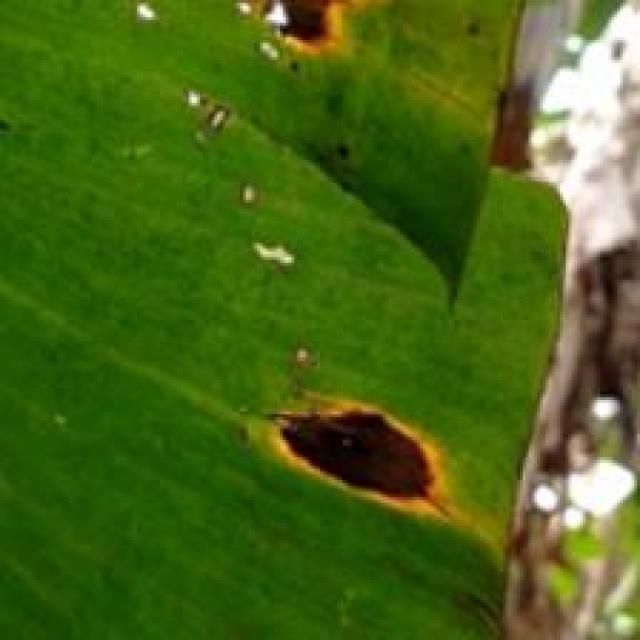Bacterial_spot: (251, 380, 488, 534), (210, 2, 368, 68)
